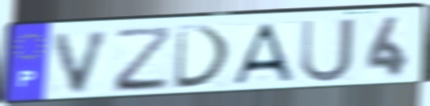4: (364, 14, 410, 80)
A: (229, 21, 298, 87)
D: (172, 24, 235, 92)
U: (299, 16, 357, 85)
V: (50, 28, 115, 96)
Z: (113, 24, 174, 95)
